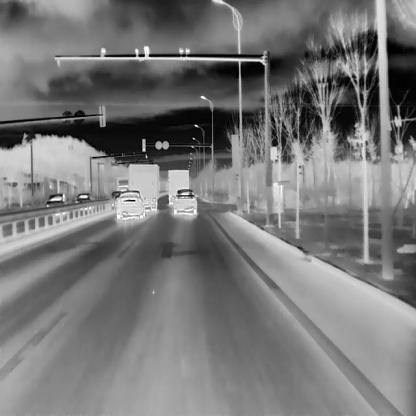car: (129, 164, 157, 211), (116, 190, 147, 219), (168, 169, 189, 204), (172, 189, 197, 215), (46, 193, 67, 207), (116, 176, 129, 193), (75, 192, 91, 203), (111, 190, 121, 201)
